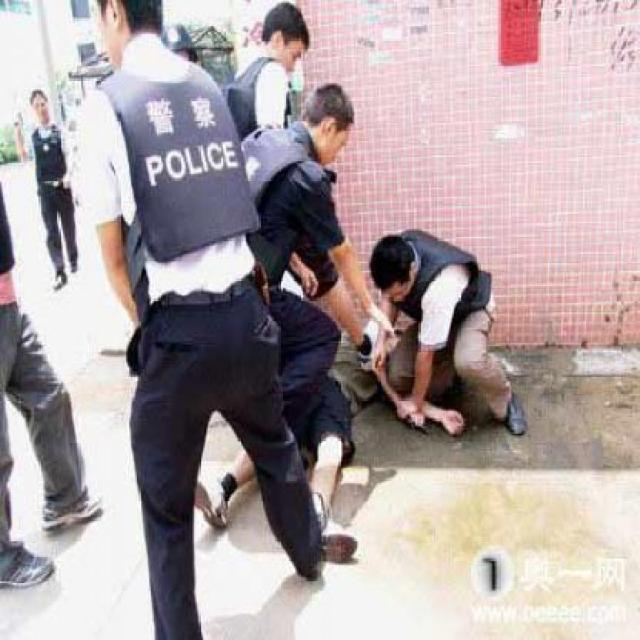fall: (202, 285, 440, 560)
